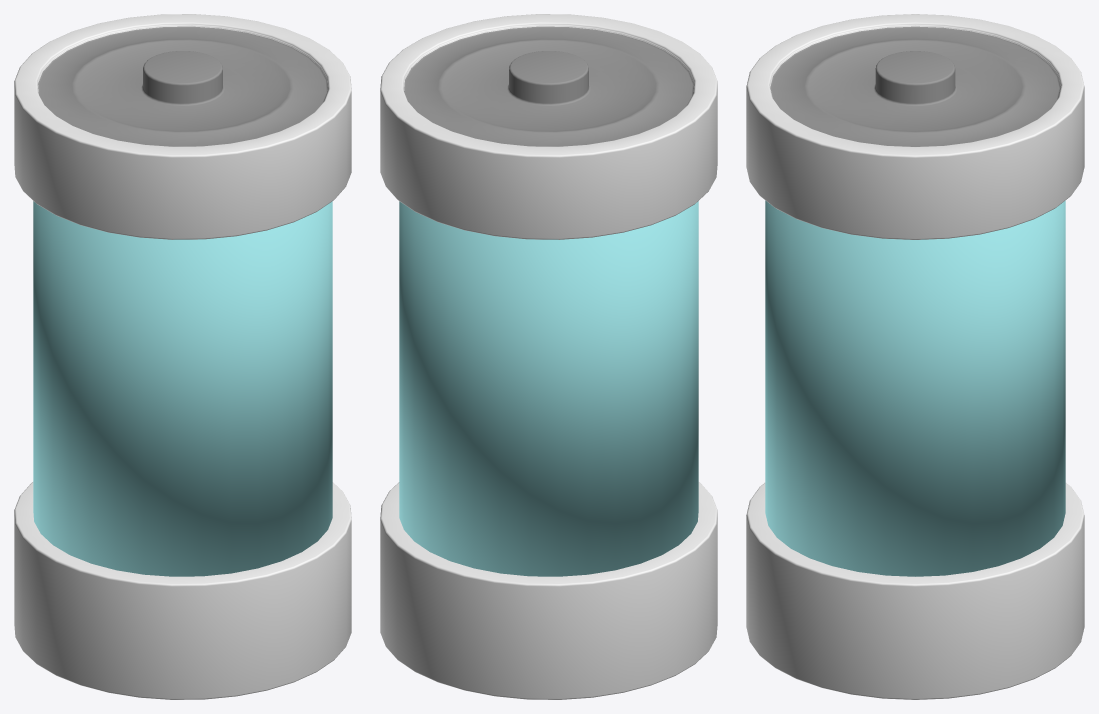
Rendered from battery2.glb.
The picture shows the model from 3 angles, left to right: view 1: azimuth 30°, elevation 25°; view 2: azimuth 150°, elevation 25°; view 3: azimuth 270°, elevation 25°; orthographic projection.
Parts seen in each view (by area): view 1: Battery, Glass; view 2: Battery, Glass; view 3: Battery, Glass.
Part boxes in pixels (x1,y1,x2,y2): Battery: [14, 14, 351, 699]; Glass: [33, 201, 332, 576]; Battery: [380, 14, 717, 699]; Glass: [399, 201, 698, 576]; Battery: [746, 14, 1084, 699]; Glass: [765, 200, 1065, 576].
Bounding box in the file's own units: 2 × 3.67 × 2.
2 materials, 1 textured.
